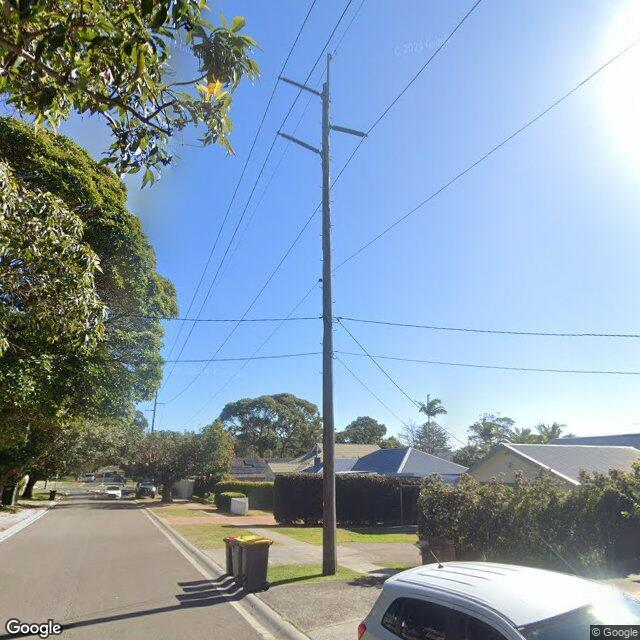HV-transmission: (278, 52, 367, 155), (146, 390, 164, 412)
timber-pole: (321, 81, 336, 573), (152, 399, 156, 433)
